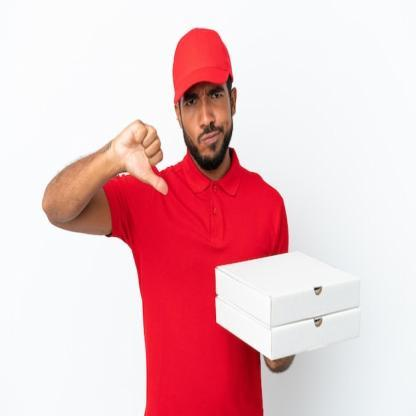thumb_down: (118, 115, 170, 199)
